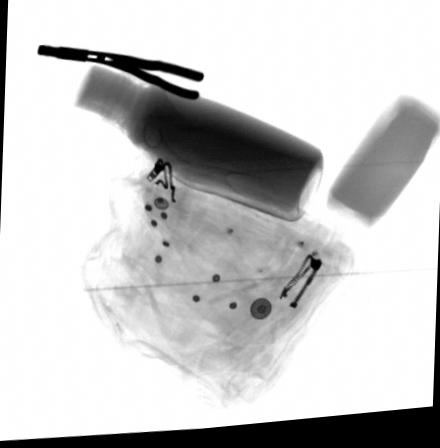Pliers: (36, 43, 205, 106)
